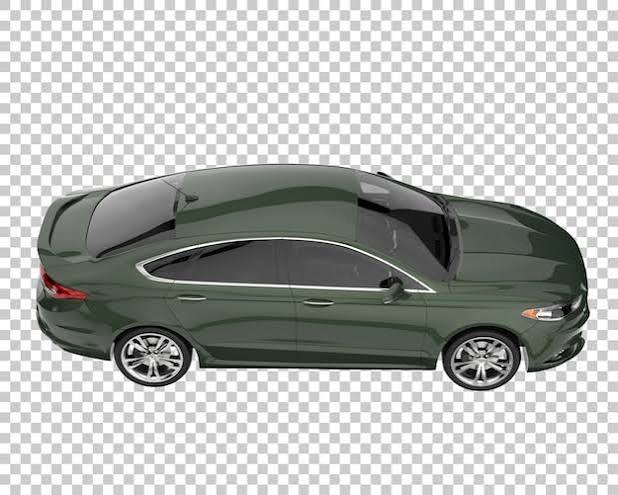car: (39, 158, 605, 395)
